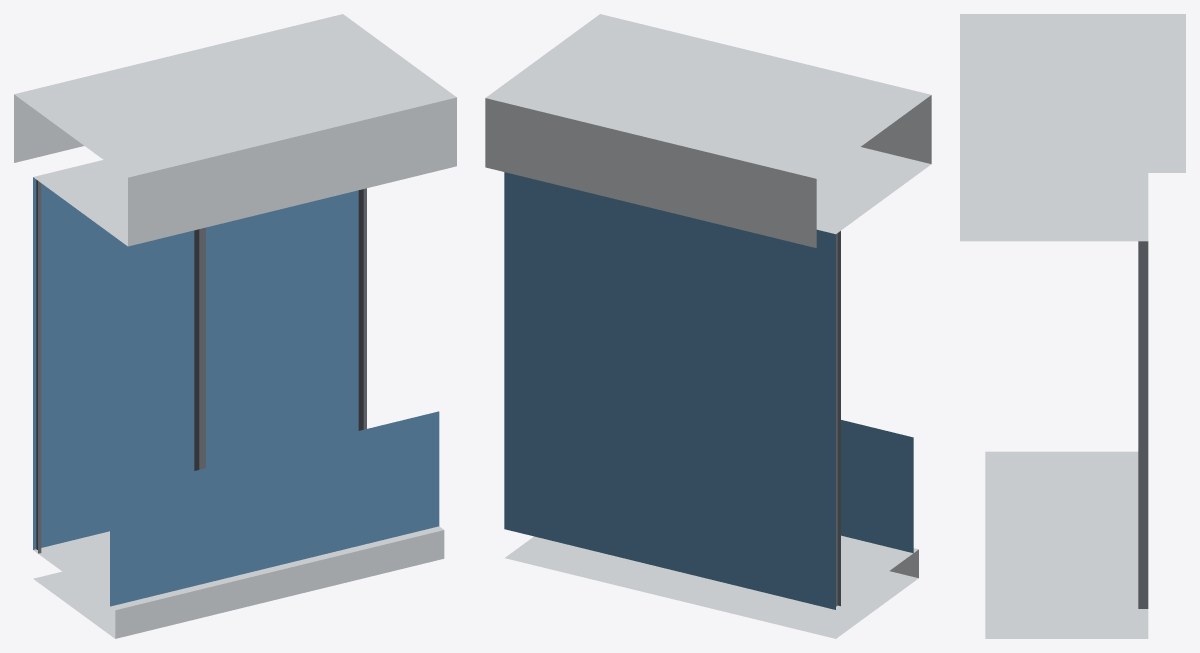
File: top-w1.fbx
3 views of the same model, side by side, from view 1: azimuth 30°, elevation 25°; view 2: azimuth 150°, elevation 25°; view 3: azimuth 270°, elevation 25° (orthographic).
Visible parts, largest first — view 1: a2002/800/top-w1; view 2: a2002/800/top-w1; view 3: a2002/800/top-w1.
Boxes of the visible parts, bbox=[...] form: a2002/800/top-w1: bbox=[14, 14, 456, 638]; a2002/800/top-w1: bbox=[485, 14, 931, 638]; a2002/800/top-w1: bbox=[960, 14, 1185, 638].
Size of the model in its own units: 3 by 4.1 by 1.8.
